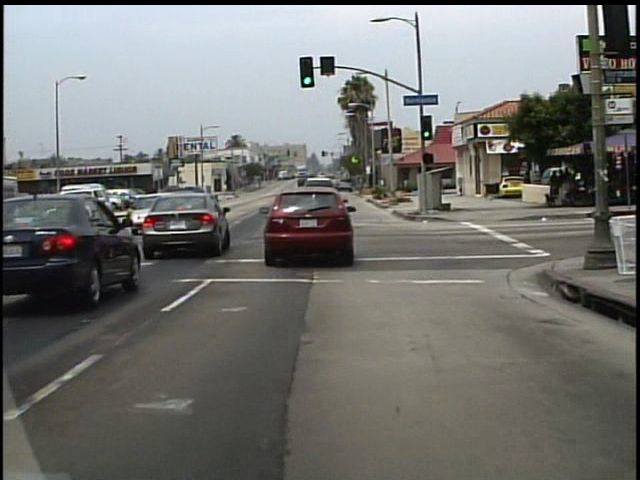person: (520, 169, 534, 204)
